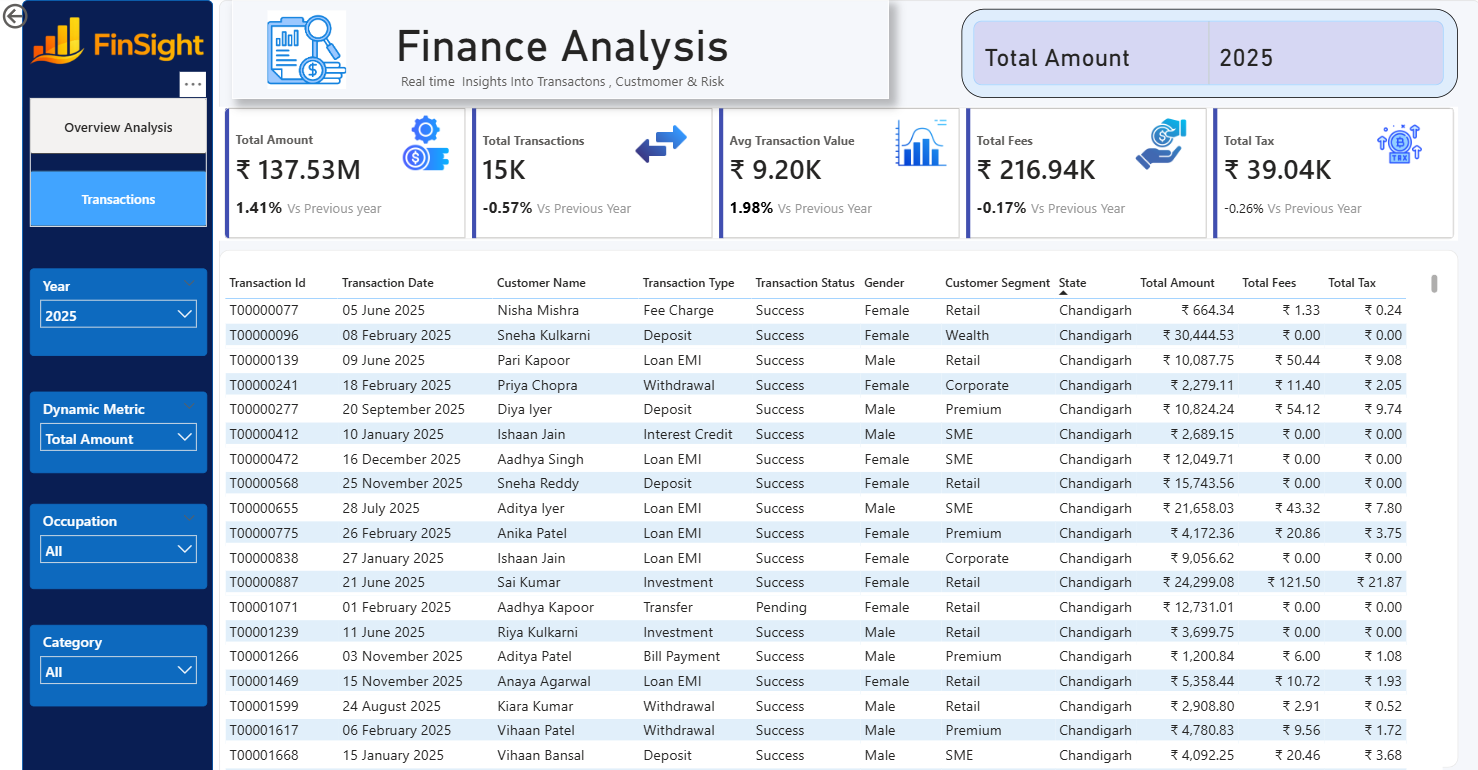

The page's visual inventory and layout, read from the dashboard file:
{"tool":"powerbi","page":{"name":"Transactions","canvas":[1800,950],"ordinal":1},"visuals":[{"type":"shape","box":[28.1,0,232,950.3],"z":0},{"type":"shape","box":[267.5,0,1532.2,950.3],"z":1000},{"type":"image","box":[24.3,0,243.2,99.2],"z":2000},{"type":"cardVisual","fields":{"Data":["finance_transactions.Total Amount","finance_transactions.Total Transactions","finance_transactions.Avg Transaction Value","finance_transactions.Total Fees","finance_transactions.Total Tax"]},"box":[267.5,129.1,1504.1,162.8],"z":3000},{"type":"image","box":[478.9,134.7,76.7,76.7],"z":4000},{"type":"image","box":[765.1,136.6,76.7,76.7],"z":5000},{"type":"image","box":[1081.3,134.7,74.8,76.7],"z":6000},{"type":"image","box":[1373.1,136.6,74.8,76.7],"z":7000},{"type":"image","box":[1663.1,136.6,74.8,76.7],"z":8000},{"type":"shape","box":[266.9,303.8,1505,629],"z":9000},{"type":"cardVisual","fields":{"Data":["finance_transactions.Selected Dynamic Metric","finance_transactions.Selected Year"]},"box":[1169.2,11.2,602.4,108.5],"z":10000},{"type":"tableEx","fields":{"Values":["finance_transactions.transaction_id","finance_transactions.transaction_date","customers.Customer_name","finance_transactions.transaction_type","finance_transactions.transaction_status","customers.gender","customers.customer_segment","customers.state","finance_transactions.Total Amount","finance_transactions.Total Fees","finance_transactions.Total Tax"]},"box":[268.3,327,1484.4,622.7],"z":11000},{"type":"actionButton","box":[0,0,100,40],"z":12000},{"type":"slicer","fields":{"Values":["Calendar Table.Year"]},"box":[36.9,326.6,215.8,106.5],"z":13000},{"type":"slicer","fields":{"Values":["Dynamic Metric.Dynamic Metric"]},"box":[36.9,475.7,215.8,99.4],"z":14000},{"type":"slicer","fields":{"Values":["customers.occupation"]},"box":[36.9,612,215.8,103.6],"z":15000},{"type":"slicer","fields":{"Values":["finance_transactions.merchant_category"]},"box":[36.9,758.2,215.8,99.4],"z":16000},{"type":"pageNavigator","box":[36.9,119.3,215.8,156.2],"z":17000},{"type":"card","fields":{"Values":["finance_transactions.Dashboard title"]},"box":[283.3,0,797.5,119.8],"z":17001},{"type":"image","box":[320.6,5.3,105.5,110.9],"z":17002}]}

Visuals, with their boxes on the page's 1800x950 design canvas (x1, y1, x2, y2). These are canvas units, not pixel positions in the 1478x770 screenshot, which may show the page scaled, cropped or inside an application window:
shape: 28, 0, 260, 950
shape: 268, 0, 1800, 950
image: 24, 0, 268, 99
cardVisual - finance_transactions.Total Amount x finance_transactions.Total Transactions: 268, 129, 1772, 292
image: 479, 135, 556, 211
image: 765, 137, 842, 213
image: 1081, 135, 1156, 211
image: 1373, 137, 1448, 213
image: 1663, 137, 1738, 213
shape: 267, 304, 1772, 933
cardVisual - finance_transactions.Selected Dynamic Metric x finance_transactions.Selected Year: 1169, 11, 1772, 120
tableEx - finance_transactions.transaction_id x finance_transactions.transaction_date: 268, 327, 1753, 950
actionButton: 0, 0, 100, 40
slicer - Calendar Table.Year: 37, 327, 253, 433
slicer - Dynamic Metric.Dynamic Metric: 37, 476, 253, 575
slicer - customers.occupation: 37, 612, 253, 716
slicer - finance_transactions.merchant_category: 37, 758, 253, 858
pageNavigator: 37, 119, 253, 276
card - finance_transactions.Dashboard title: 283, 0, 1081, 120
image: 321, 5, 426, 116
